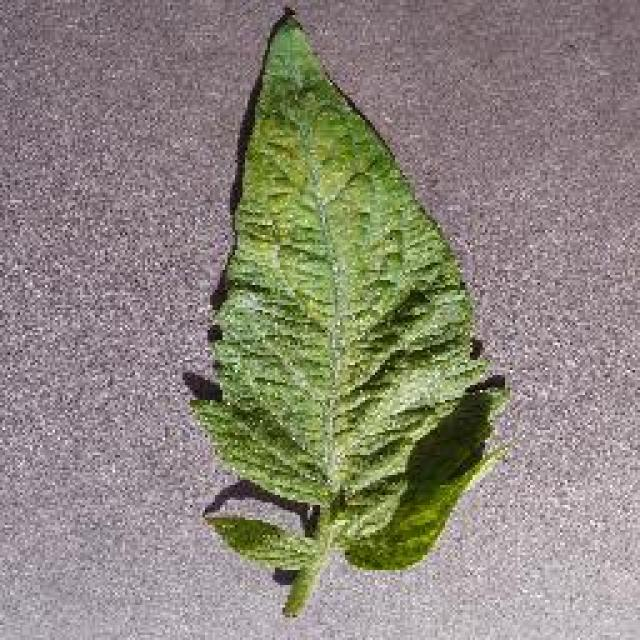Tom_Spider_mites Two-spotted_spider_mite: (227, 192, 445, 508)
